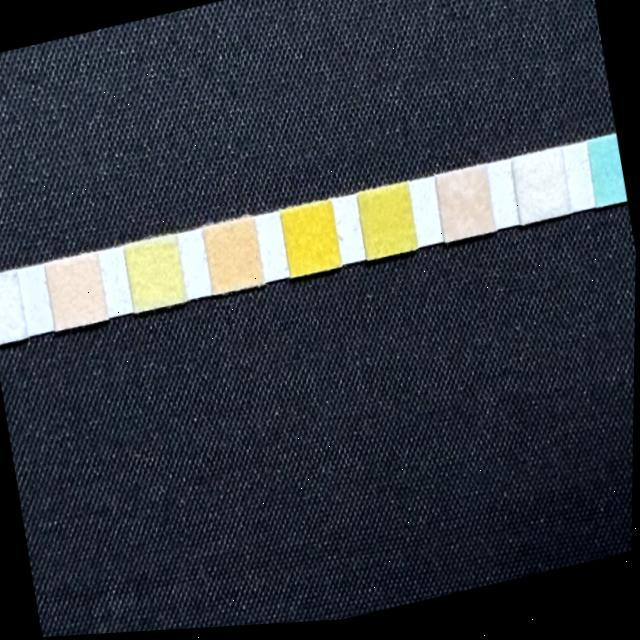Bilirubin: (510, 152, 572, 231)
Blood: (281, 202, 342, 280)
Glucose: (586, 142, 628, 214)
Ketone: (434, 168, 497, 247)
Nitrite: (0, 269, 27, 343)
Protein: (124, 234, 188, 313)
SpGravity: (356, 186, 418, 264)
Urobilinogen: (44, 252, 108, 331)
pH: (202, 220, 265, 296)
